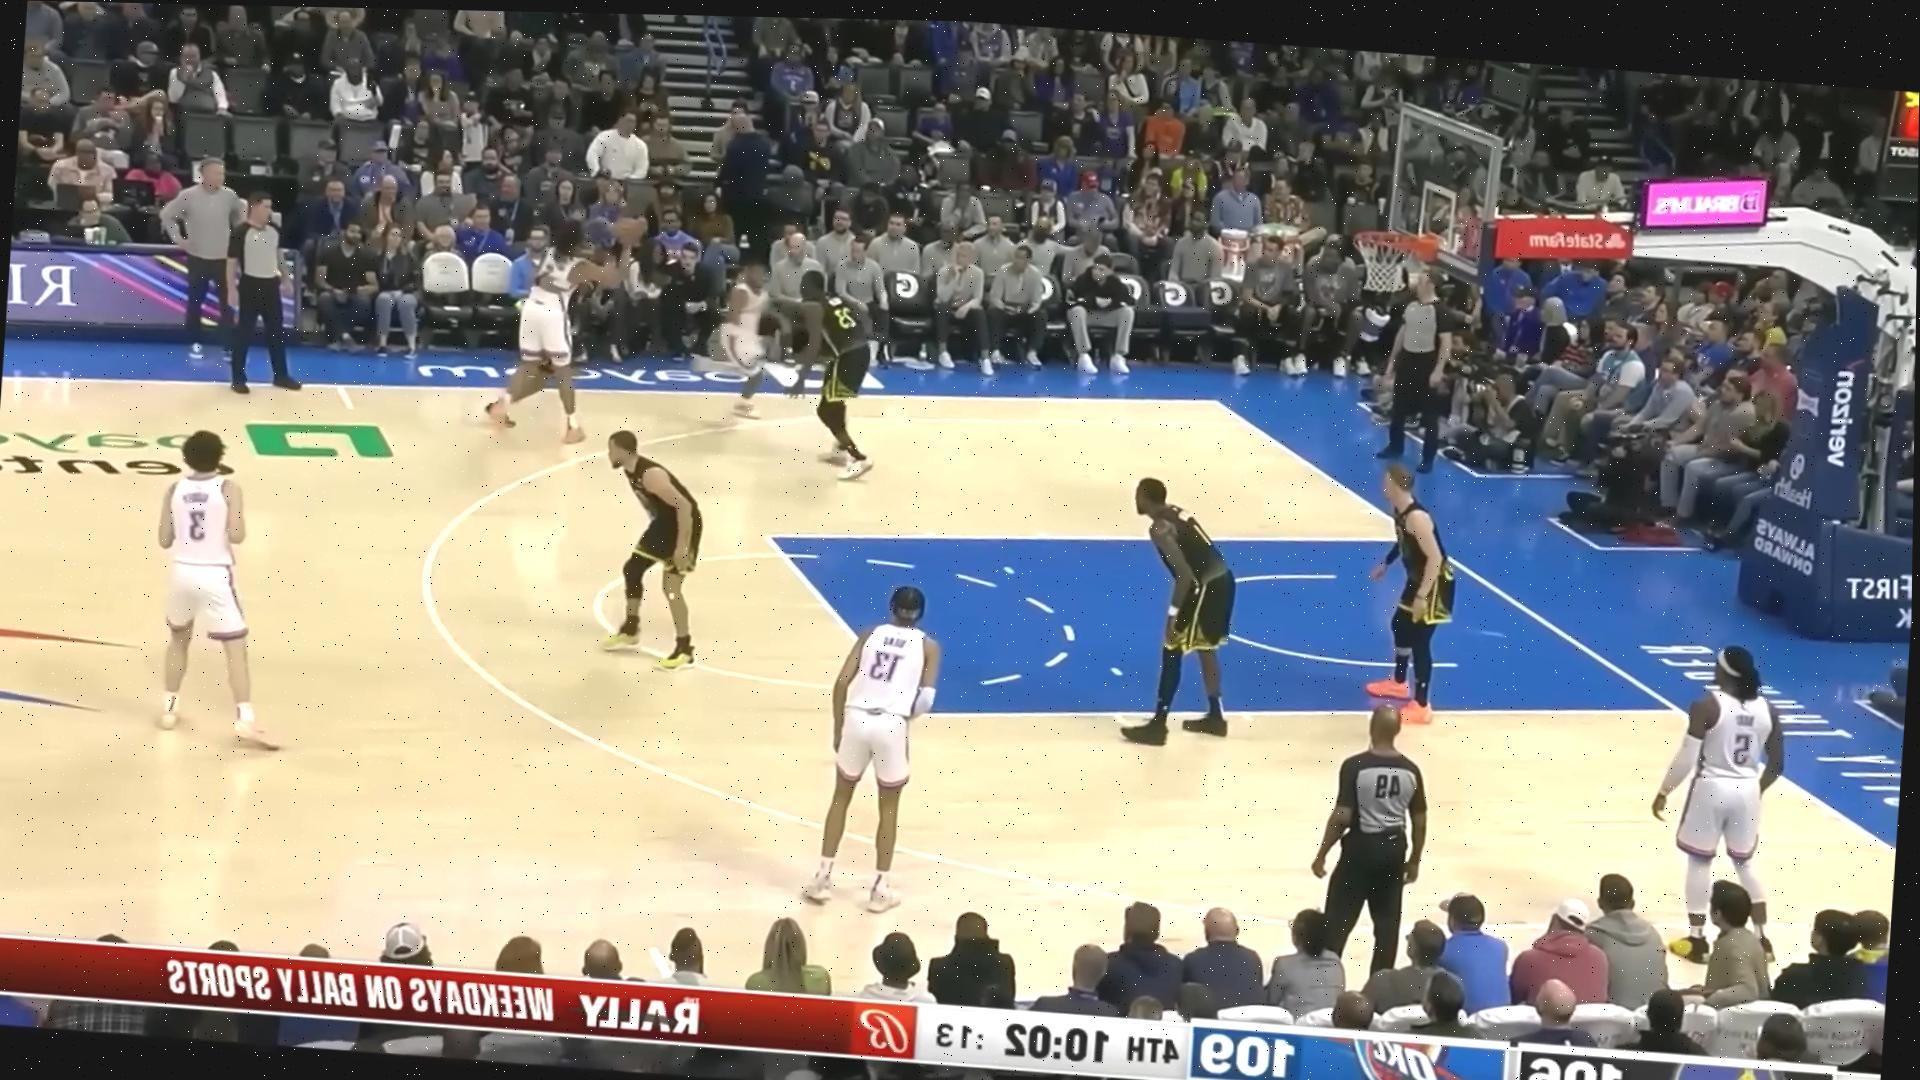foul: (481, 212, 651, 443)
